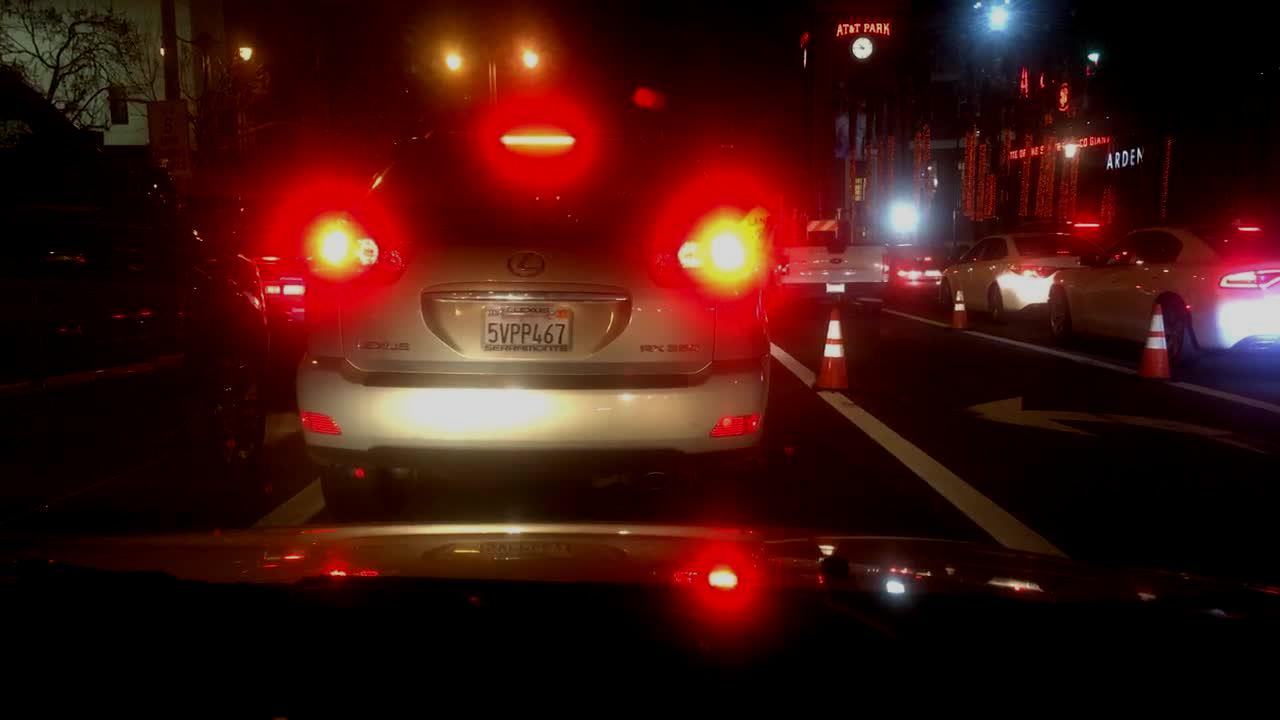lexus: (501, 243, 559, 295)
